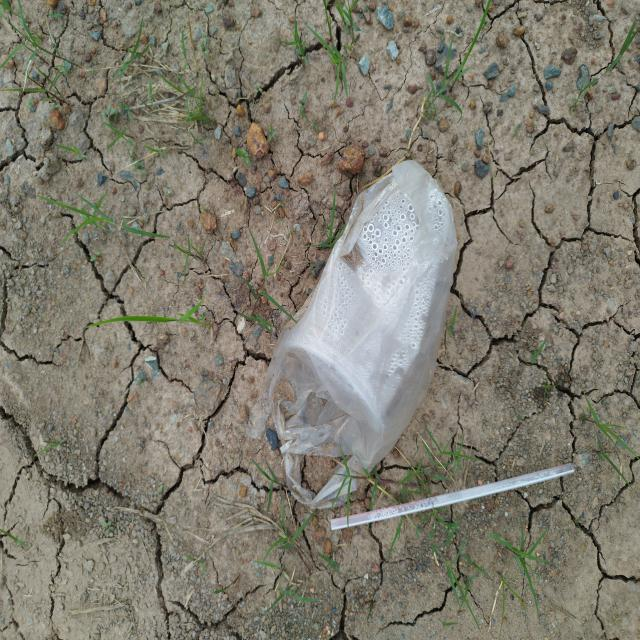drinking straw: (330, 464, 574, 532)
trash bag: (244, 162, 458, 508)
